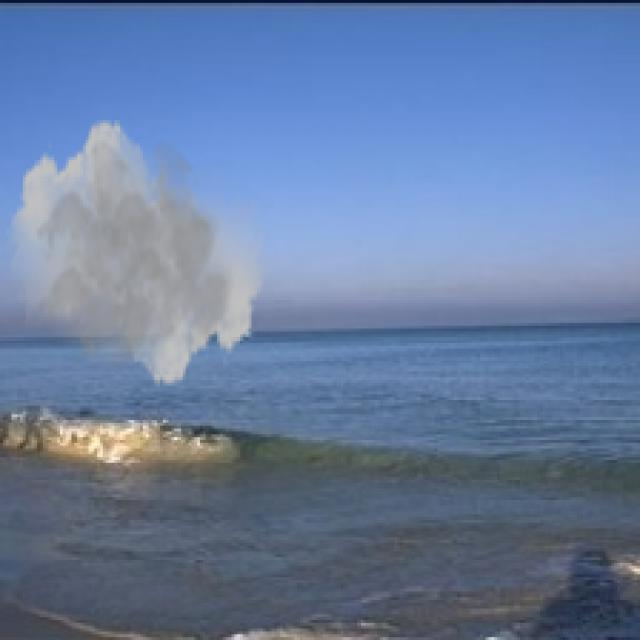Smoke: (5, 117, 268, 389)
